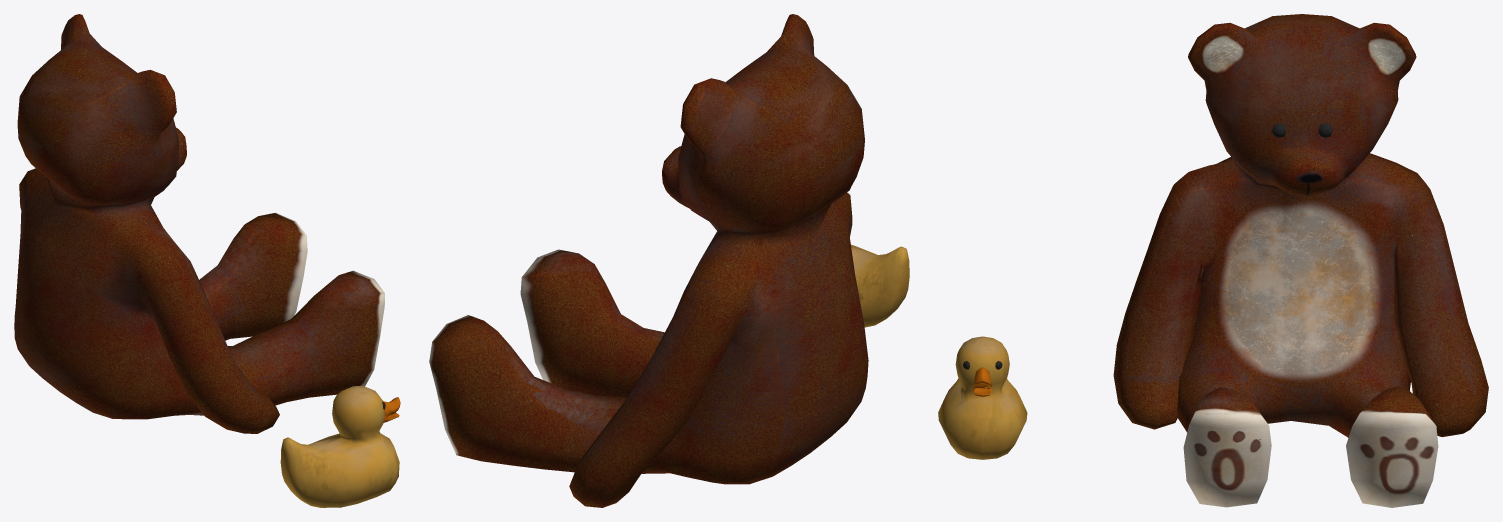
File: low-poly_toy_pack_teddy_bear__rubber_duck.glb
3 renders of one model, left to right at view 1: azimuth 30°, elevation 25°; view 2: azimuth 150°, elevation 25°; view 3: azimuth 270°, elevation 25°, orthographic. The views are drawn at different scales.
Visible parts, largest first — view 1: SM_Oyuncak_Ayi_0, SM_Ordek_1; view 2: SM_Oyuncak_Ayi_0, SM_Ordek_1; view 3: SM_Oyuncak_Ayi_0, SM_Ordek_1.
Part boxes in pixels (x1,y1,x2,y2): SM_Oyuncak_Ayi_0: [14, 14, 384, 433]; SM_Ordek_1: [280, 385, 400, 507]; SM_Oyuncak_Ayi_0: [429, 14, 868, 507]; SM_Ordek_1: [851, 244, 909, 327]; SM_Oyuncak_Ayi_0: [1113, 14, 1488, 507]; SM_Ordek_1: [938, 336, 1027, 459].
Size of the model in its own units: 0.6093 by 0.6856 by 0.8919.
Materials: 2 (2 with a texture image).
